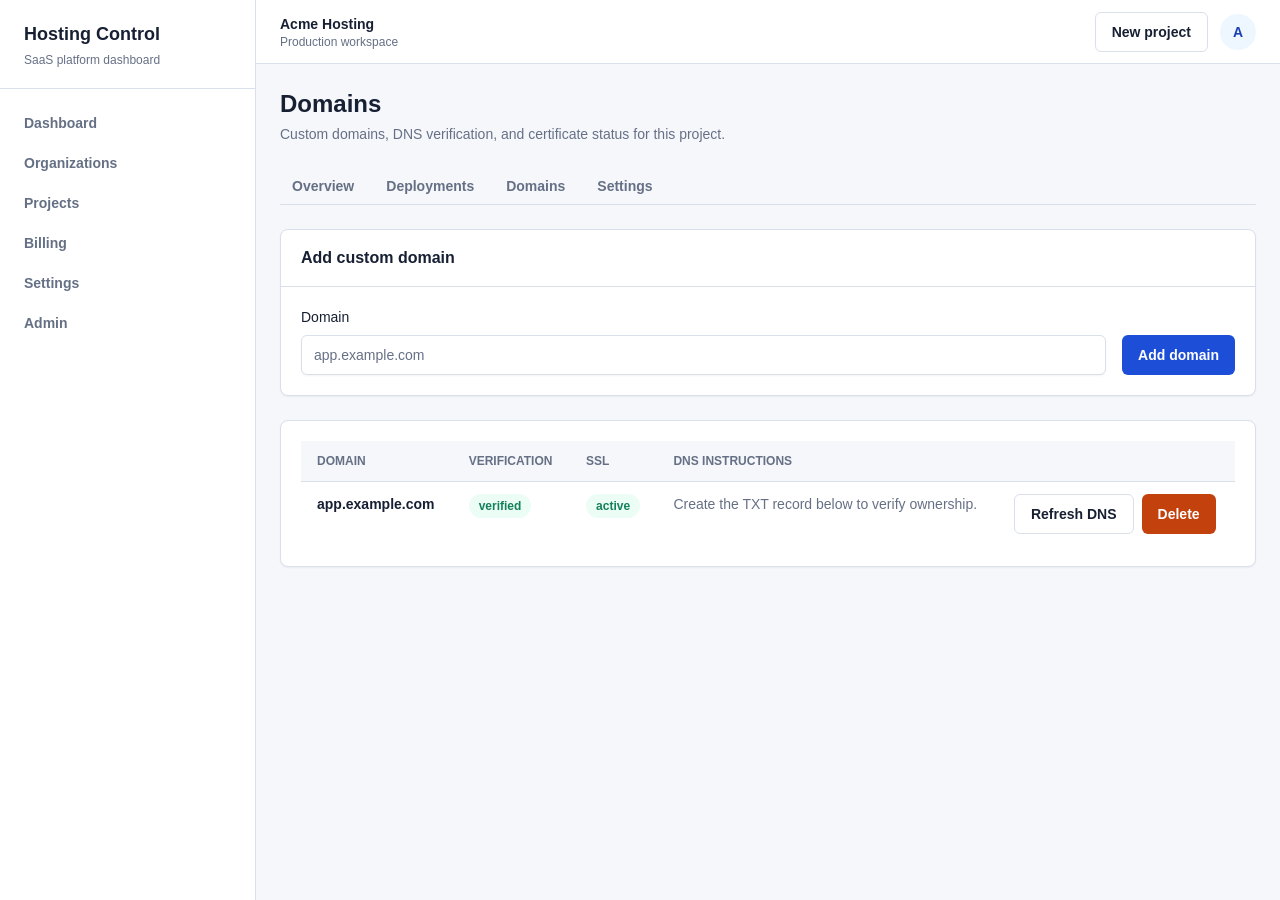
Test: ProjectDomainsPage › adds a domain for users with domain management permission
Type "docs.example.com" into the field labelled "Domain". click: {"x": 704, "y": 355}
box: 301,335 -> 1106,375
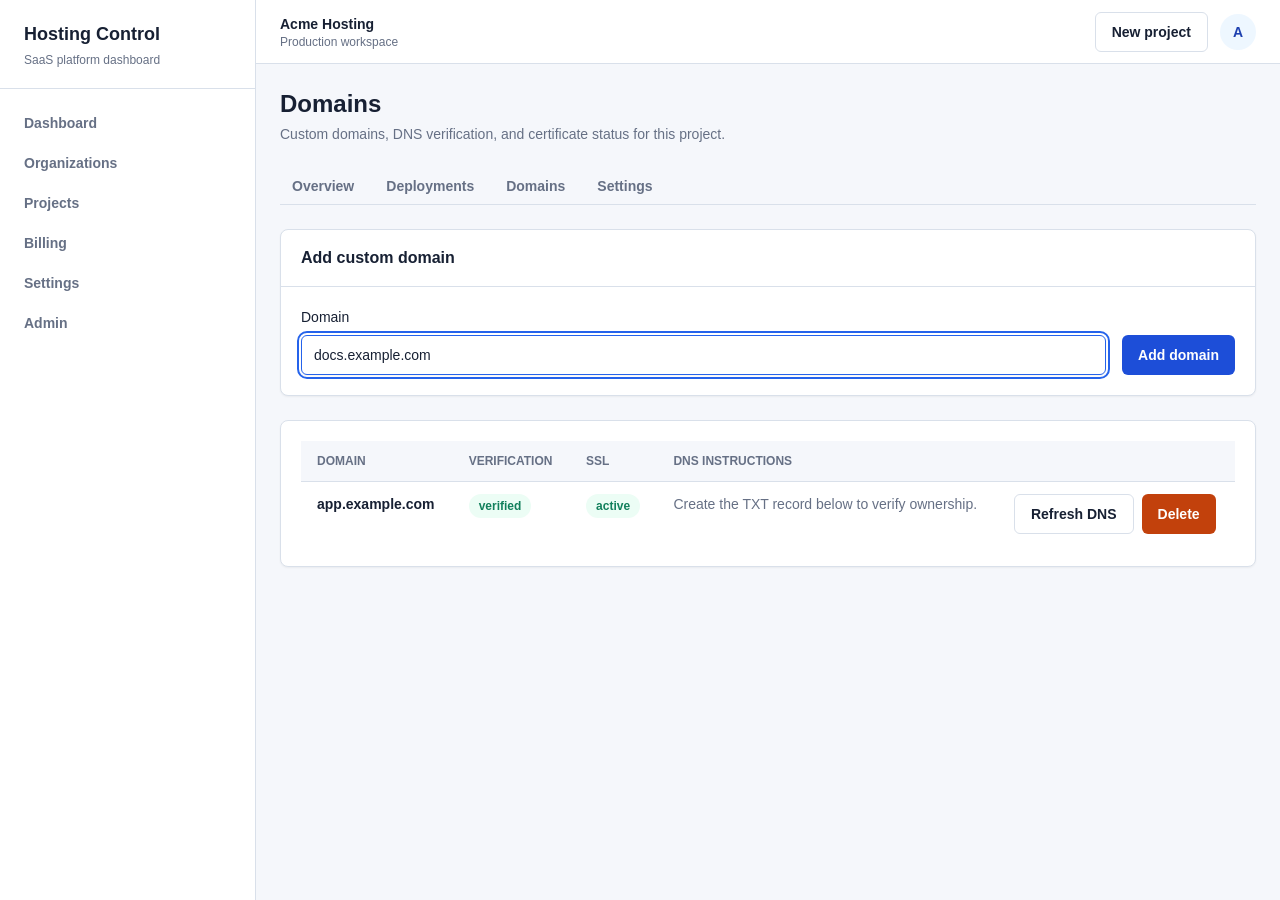
Click the button "Add domain". click: {"x": 1179, "y": 355}
box: 1122,335 -> 1235,375
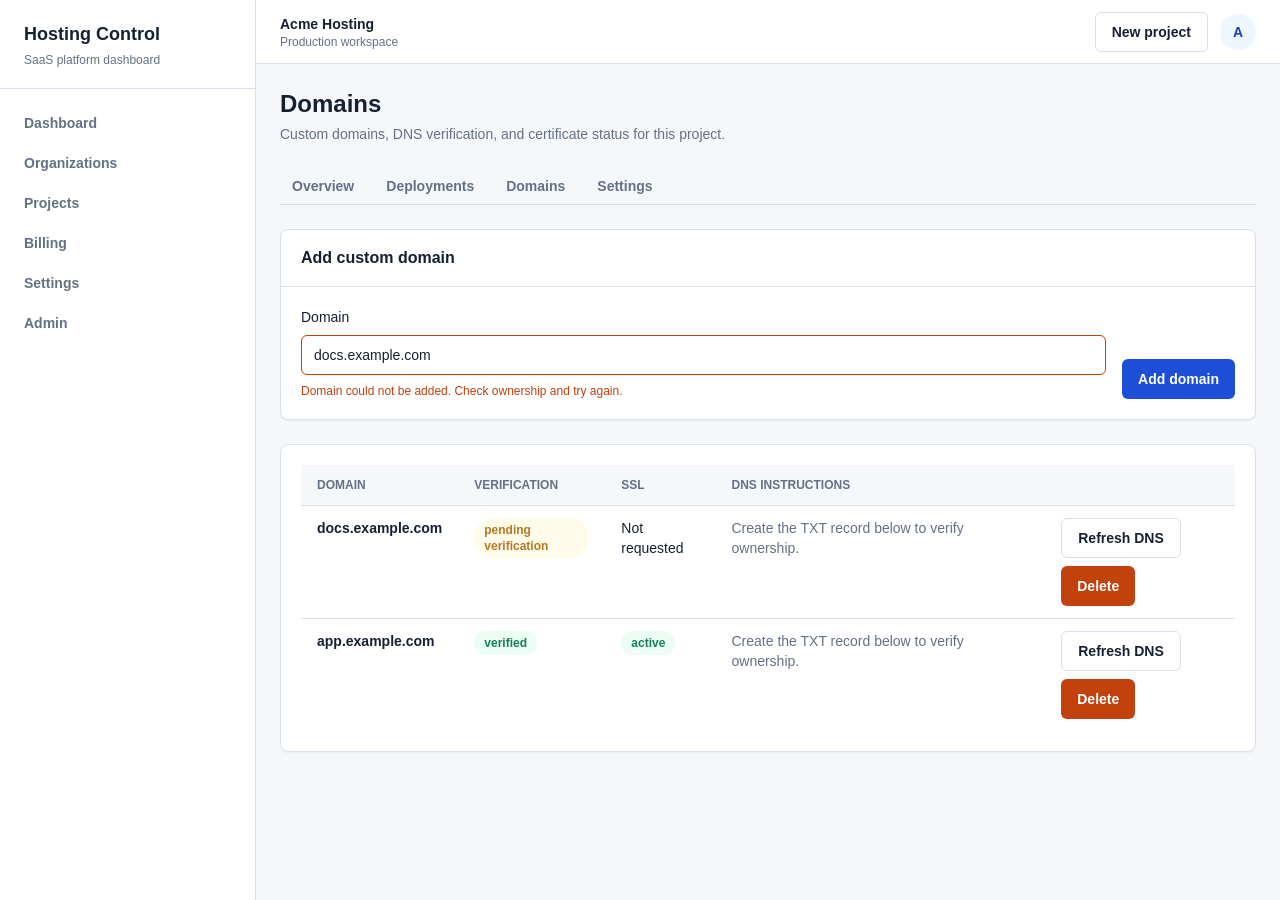
expect the text "docs.example.com" is shown: met, box 301,506 -> 458,618
